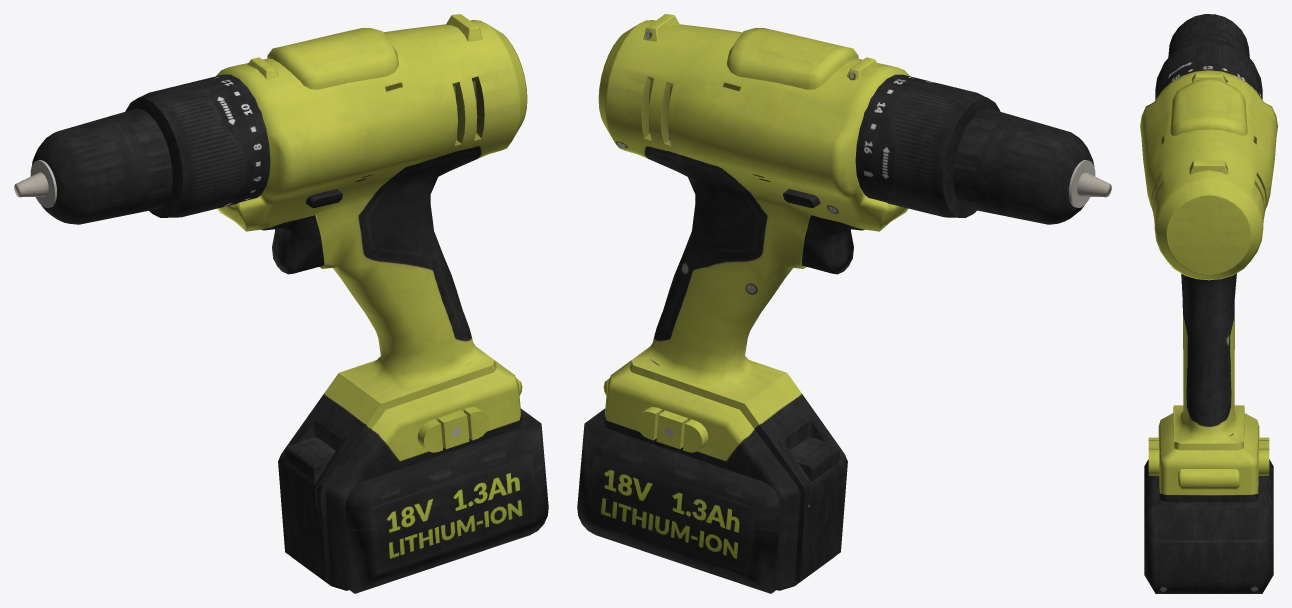
Rendered from drill.glb.
3 renders of one model, left to right at view 1: azimuth 30°, elevation 25°; view 2: azimuth 150°, elevation 25°; view 3: azimuth 270°, elevation 25°, orthographic. The views are drawn at different scales.
Visible parts, largest first — view 1: Drill_01; view 2: Drill_01; view 3: Drill_01.
Part boxes in pixels (<box>): Drill_01: <box>14,14,548,593</box>; Drill_01: <box>577,14,1111,593</box>; Drill_01: <box>1140,14,1277,593</box>.
Bounding box in the file's own units: 0.1829 × 0.1851 × 0.0524.
1 material, 1 textured.
